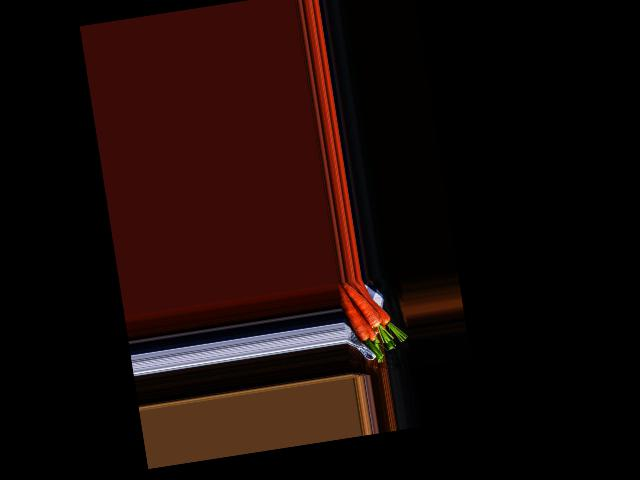carrot: (337, 280, 371, 351)
